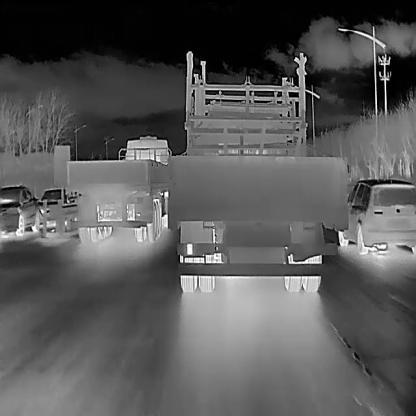car: (166, 93, 347, 291), (65, 136, 170, 241), (337, 176, 415, 254), (0, 183, 38, 238), (39, 187, 74, 233)
